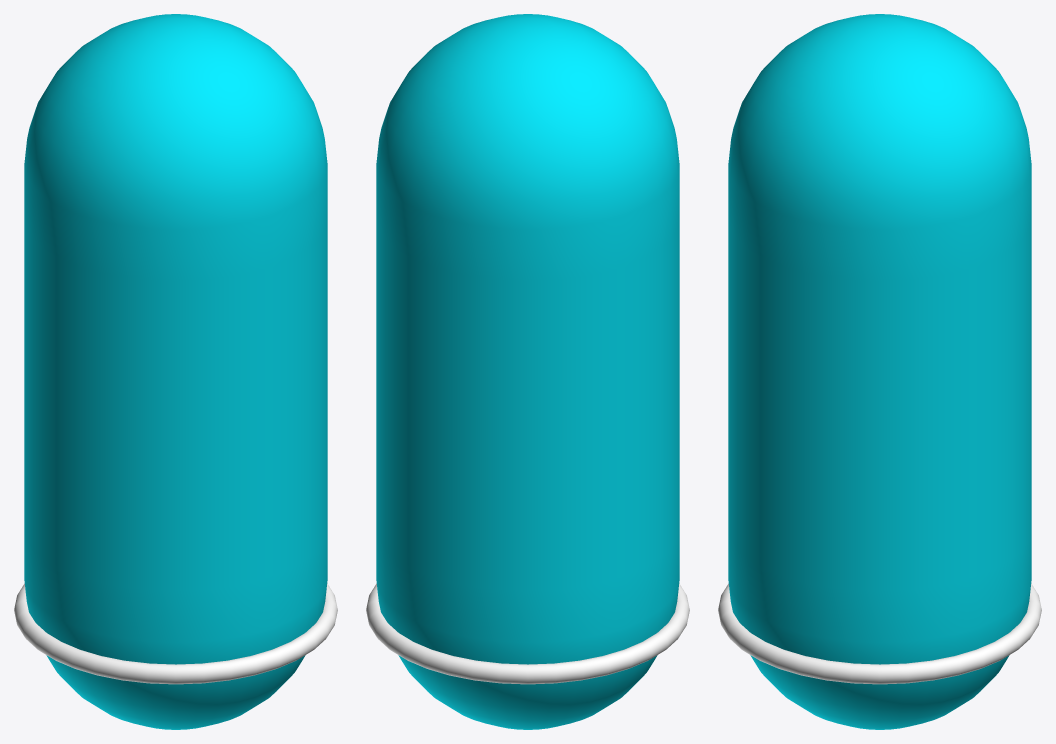
Rendered from Aura.fbx.
3 views of the same model, side by side, from view 1: azimuth 30°, elevation 25°; view 2: azimuth 150°, elevation 25°; view 3: azimuth 270°, elevation 25° (orthographic).
Visible parts, largest first — view 1: Capsule, Torus; view 2: Capsule, Torus; view 3: Capsule, Torus.
Part boxes in pixels (left/top/right/bottom): Capsule: left=24, top=14, right=327, bottom=729; Torus: left=14, top=584, right=337, bottom=684; Capsule: left=376, top=14, right=679, bottom=729; Torus: left=366, top=584, right=689, bottom=684; Capsule: left=728, top=14, right=1031, bottom=729; Torus: left=718, top=584, right=1041, bottom=684.
Bounding box in the file's own units: 640 × 1500 × 640.
